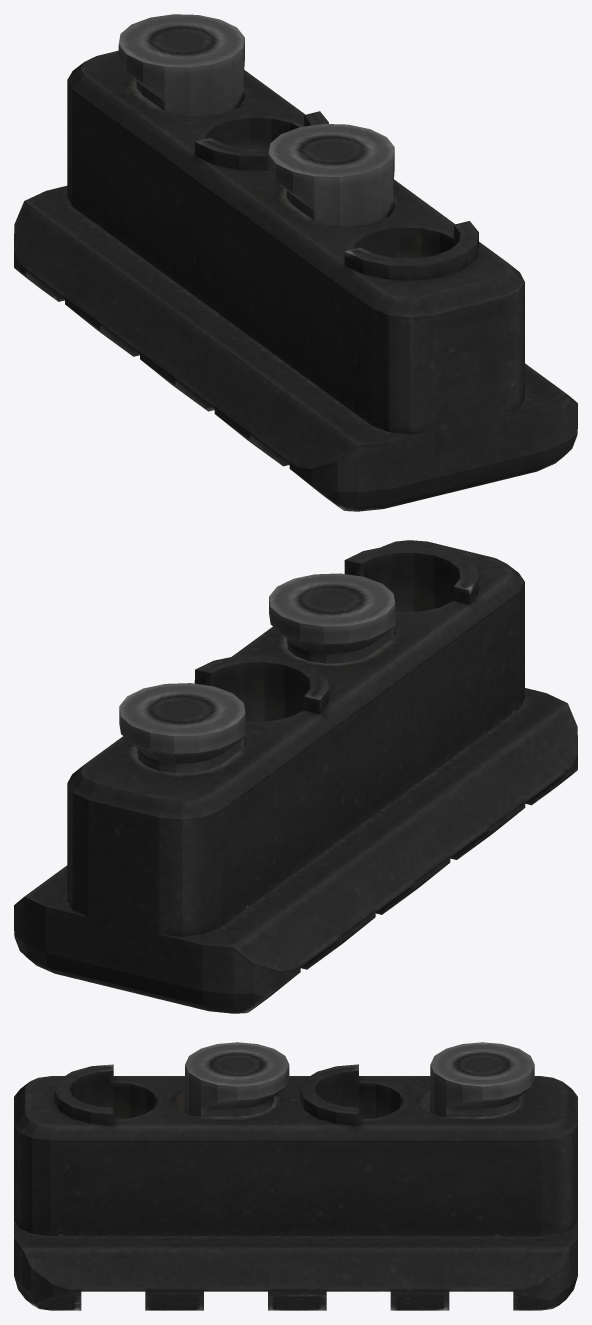
The picture shows the model from 3 angles, top to bottom: view 1: azimuth 30°, elevation 25°; view 2: azimuth 150°, elevation 25°; view 3: azimuth 270°, elevation 25°; orthographic projection. The views are drawn at different scales.
Visible parts, largest first — view 1: TW_67111094d1758189fc0bd223_PZ_Import; view 2: TW_67111094d1758189fc0bd223_PZ_Import; view 3: TW_67111094d1758189fc0bd223_PZ_Import.
Part boxes in pixels (box(x1,y1,x2,y2)): TW_67111094d1758189fc0bd223_PZ_Import: box(14, 14, 577, 511); TW_67111094d1758189fc0bd223_PZ_Import: box(14, 540, 577, 1013); TW_67111094d1758189fc0bd223_PZ_Import: box(14, 1042, 577, 1310).
Bounding box in the file's own units: 0.0123 × 0.0266 × 0.0106.
1 material, 1 textured.
